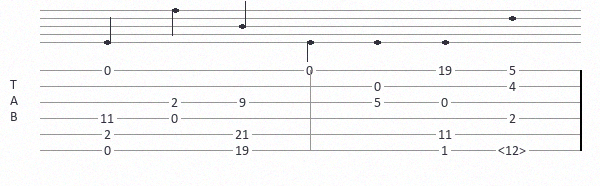0: (104, 144, 115, 157), (104, 64, 115, 77), (171, 112, 182, 125), (306, 64, 317, 77), (374, 80, 385, 93), (441, 96, 452, 109)
1: (441, 144, 452, 157)
11: (100, 112, 118, 125), (438, 128, 456, 141)
19: (235, 144, 253, 157), (438, 64, 456, 77)
2: (104, 128, 115, 141), (171, 96, 182, 109), (509, 112, 520, 125)
21: (235, 128, 253, 141)
4: (509, 80, 520, 93)
5: (374, 96, 385, 109), (509, 64, 520, 77)
9: (239, 96, 250, 109)
harmonic: (498, 144, 530, 157)
